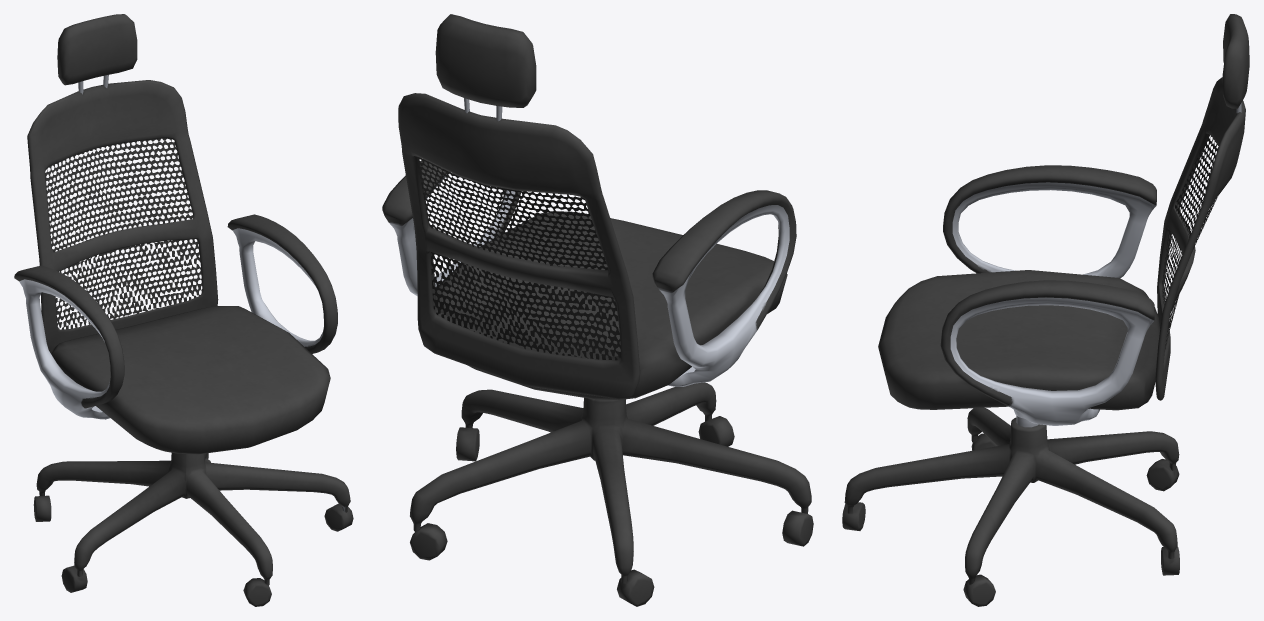
Rendered from chair_office.gltf.
The picture shows the model from 3 angles, left to right: view 1: azimuth 30°, elevation 25°; view 2: azimuth 150°, elevation 25°; view 3: azimuth 270°, elevation 25°; orthographic projection. The views are drawn at different scales.
Parts seen in each view (by area): view 1: chair.016_desk_0.001; view 2: chair.016_desk_0.001; view 3: chair.016_desk_0.001.
Part boxes in pixels (x1,y1,x2,y2): chair.016_desk_0.001: [14, 14, 353, 606]; chair.016_desk_0.001: [382, 14, 813, 606]; chair.016_desk_0.001: [842, 14, 1249, 606].
Size of the model in its own units: 0.8427 by 1.32 by 0.9635.
Materials: 1 (1 with a texture image).
